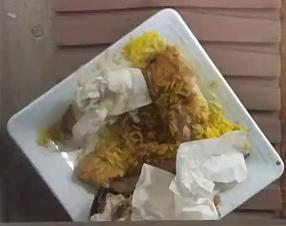fish: (141, 45, 210, 142)
pizza_crust: (76, 146, 144, 187)
rice: (122, 30, 165, 67), (206, 102, 242, 138)
